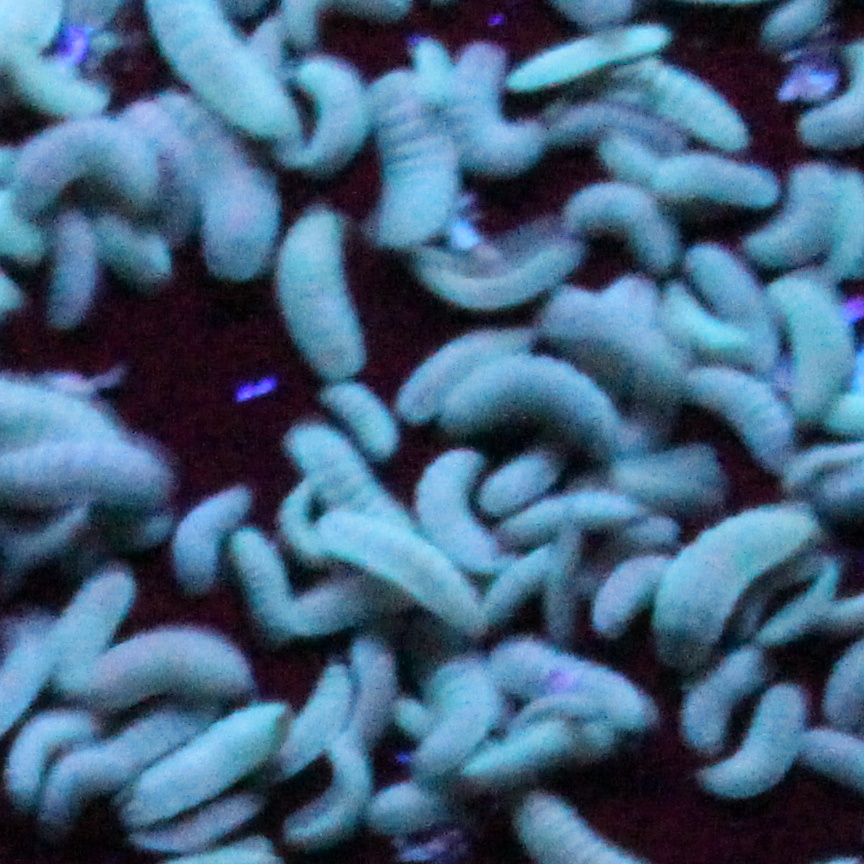larve: (285, 212, 350, 386), (412, 628, 486, 773), (445, 370, 615, 432), (666, 515, 740, 655), (322, 497, 433, 590), (373, 90, 440, 239), (94, 644, 261, 702), (785, 266, 846, 413), (452, 56, 520, 185), (203, 163, 275, 280), (699, 369, 783, 467), (417, 249, 562, 303), (26, 123, 146, 187), (292, 62, 360, 173), (500, 634, 621, 694), (750, 681, 814, 792), (50, 756, 122, 846), (666, 72, 750, 146), (570, 187, 656, 256), (237, 524, 286, 640), (180, 479, 227, 598), (522, 25, 657, 65), (106, 210, 166, 300), (602, 543, 658, 639), (660, 156, 772, 202), (675, 669, 738, 750), (181, 726, 257, 793), (74, 555, 133, 640), (47, 217, 93, 322), (475, 442, 550, 506), (321, 736, 362, 852), (127, 809, 277, 840), (779, 162, 832, 249), (365, 789, 468, 829), (756, 585, 815, 652), (7, 72, 110, 109), (545, 100, 650, 136), (351, 631, 390, 726), (488, 728, 578, 768), (666, 290, 727, 349), (492, 551, 541, 624), (307, 648, 347, 731), (295, 413, 337, 484), (342, 382, 387, 446), (433, 482, 469, 552), (769, 12, 827, 42)
